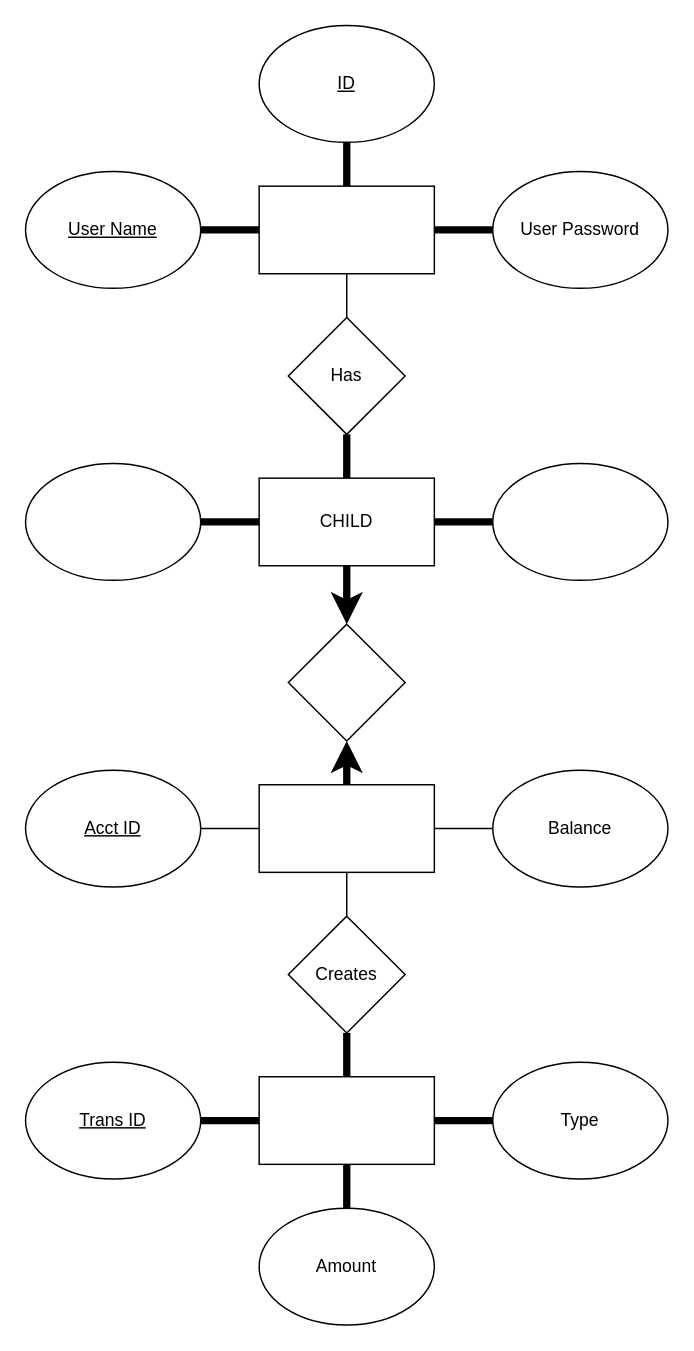
Some shapes in this 694 by 1351 pixel diagram are drawn without their labels. The shapes that lost their labels are listed below. From the top down, each one's centre as x and y in pixels, then its label:
At point (346, 229): "USER".
At point (112, 521): "Child Name".
At point (579, 521): "Child ID".
At point (346, 682): "Owns".
At point (346, 827): "ACCOUNT".
At point (346, 1119): "TRANSACTIONS".
